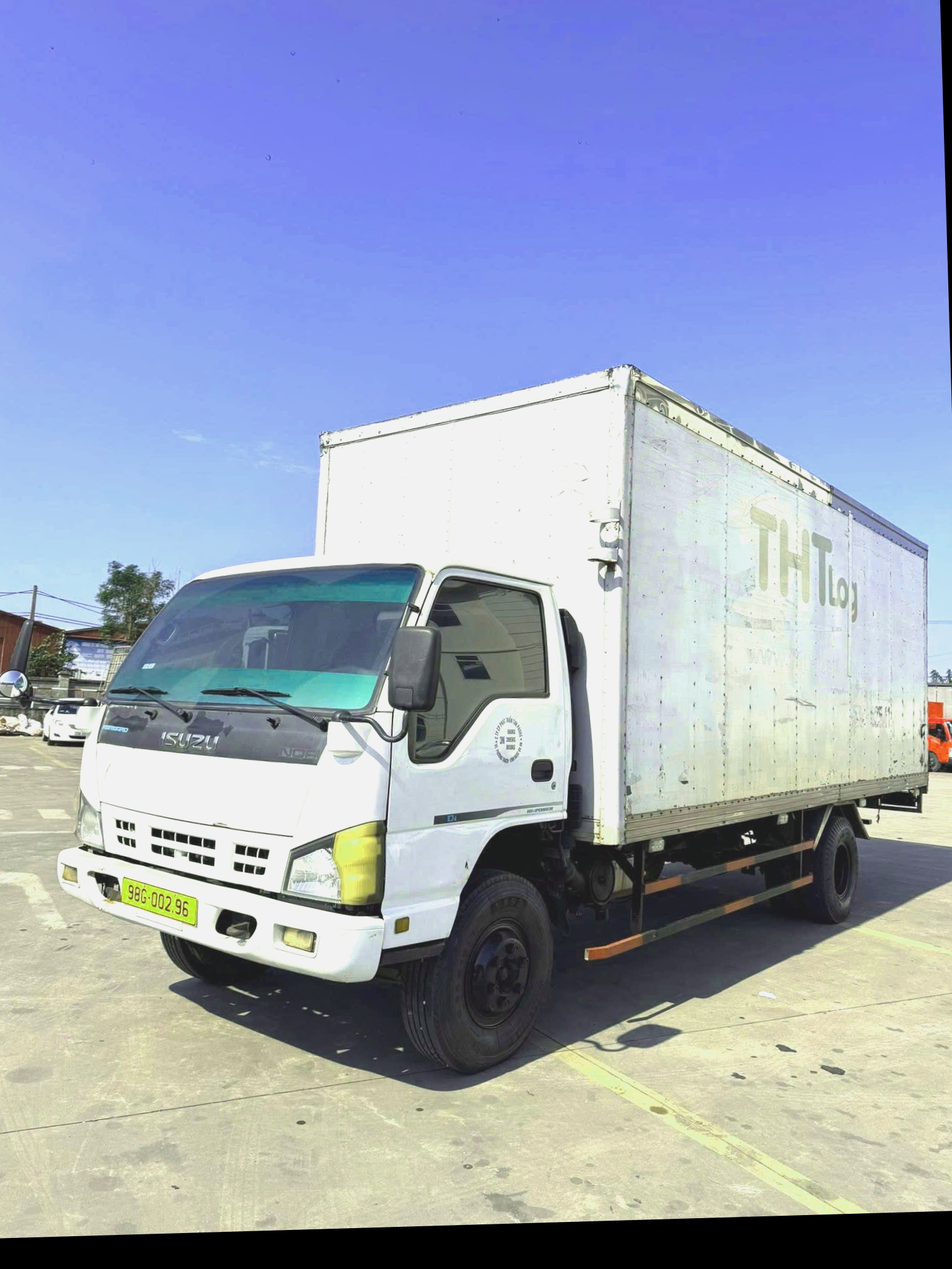Bien-so: (94, 914, 183, 981)
